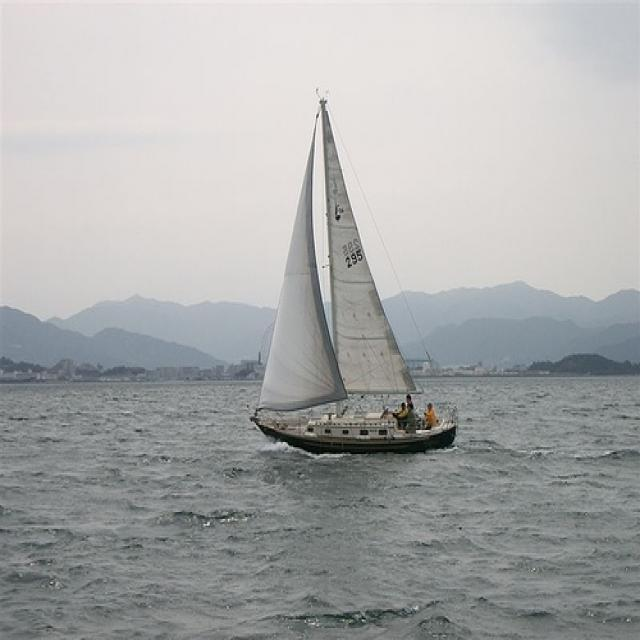Ship: (254, 87, 458, 457)
